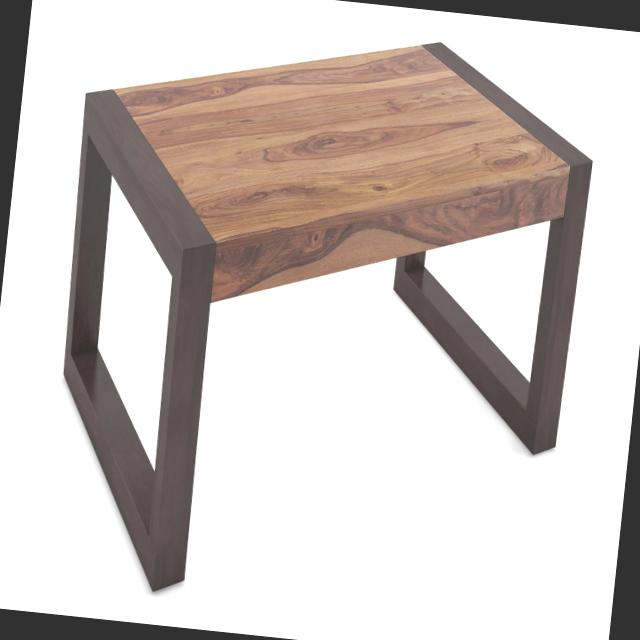obstacle: (17, 2, 626, 621)
